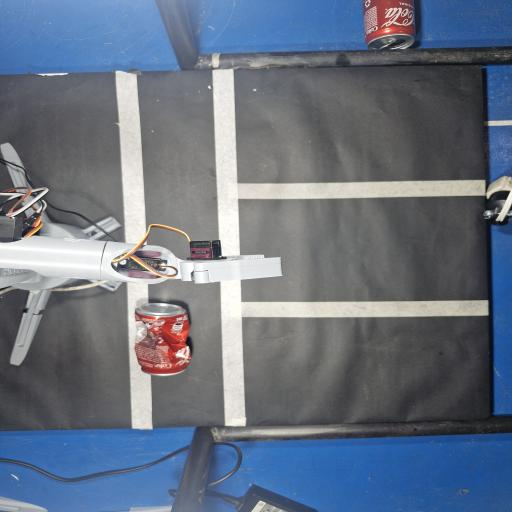lata_defectuoso: (135, 303, 191, 375)
